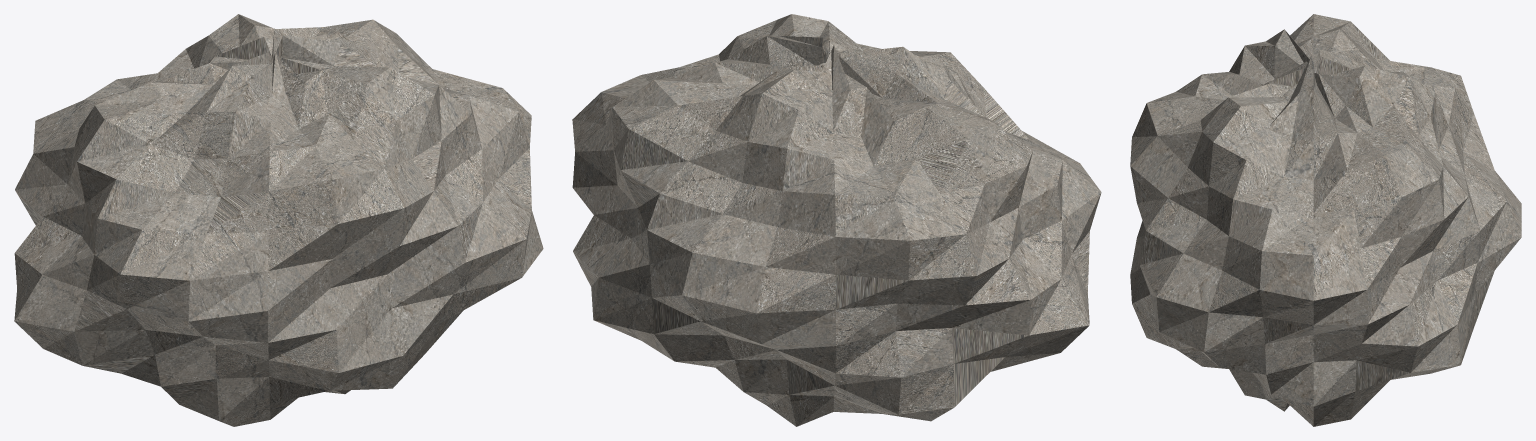
Rendered from boulder_1.obj.
3 renders of one model, left to right at view 1: azimuth 30°, elevation 25°; view 2: azimuth 150°, elevation 25°; view 3: azimuth 270°, elevation 25°, orthographic. The views are drawn at different scales.
Visible parts, largest first — view 1: Mountain_Granite; view 2: Mountain_Granite; view 3: Mountain_Granite.
Part boxes in pixels (x1,y1,x2,y2): Mountain_Granite: (14, 14, 543, 426); Mountain_Granite: (572, 14, 1101, 426); Mountain_Granite: (1130, 14, 1521, 426).
Bounding box in the file's own units: 4.94 × 3.32 × 3.48.
